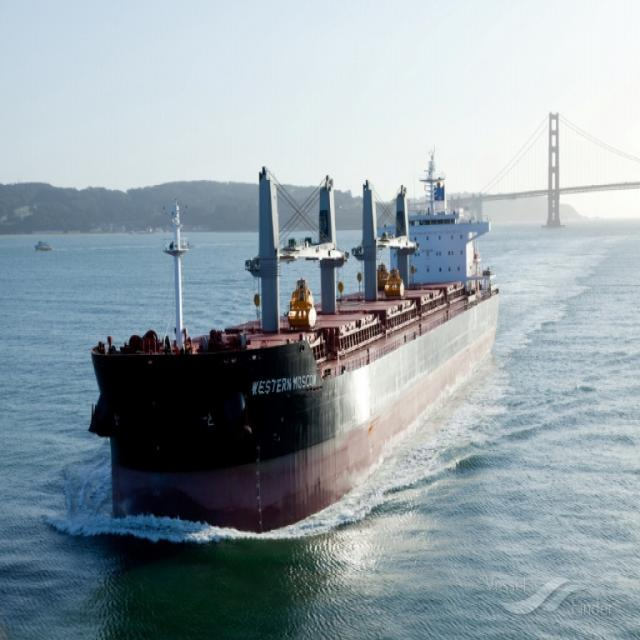OCR: (242, 362, 322, 398)
